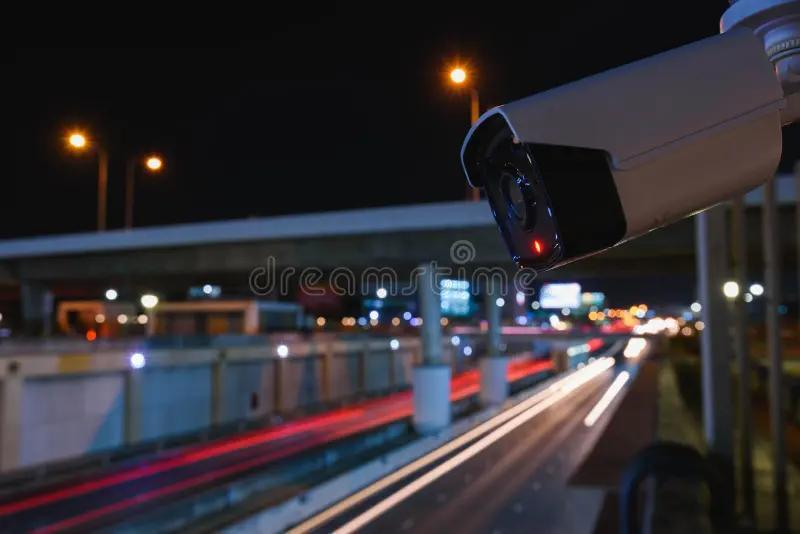Monitor: (459, 23, 787, 273)
